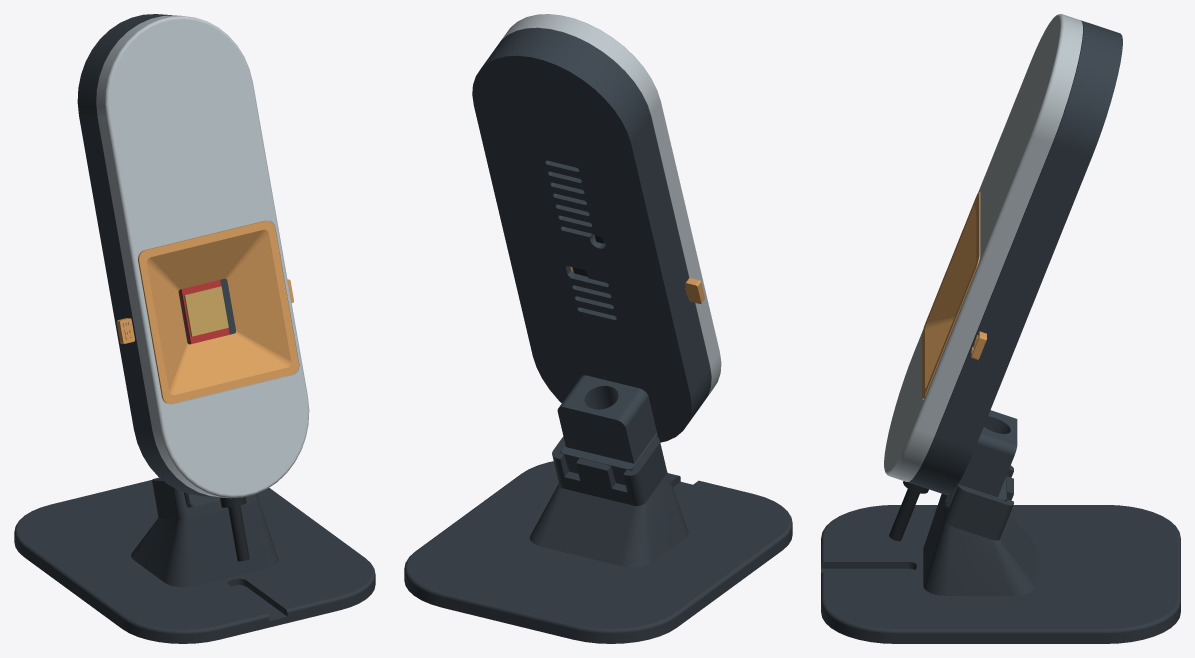
The model's file is assembly_on_existing_stand.glb.
3 renders of one model, left to right at view 1: azimuth 30°, elevation 25°; view 2: azimuth 150°, elevation 25°; view 3: azimuth 270°, elevation 25°, orthographic. The views are drawn at different scales.
Parts seen in each view (by area): view 1: hardware_free_pill_v2_2_fit_revision/v2_2_front_cable_and_cl, single_board_desktop_dock_20deg, hardware_free_pill_v2_2_fit_revision/v2_removable_flared_ape, hardware_free_pill_v2_2_fit_revision/v2_2_rear_10mm_cable_TP, hardware_free_pill_v2_2_fit_revision/reference_board_not_pri (×2), hardware_free_pill_v2_2_fit_revision/ref_assumed_9mm_molded_; view 2: hardware_free_pill_v2_2_fit_revision/v2_2_rear_10mm_cable_TP, single_board_desktop_dock_20deg, hardware_free_pill_v2_2_fit_revision/v2_2_fitted_heel_integr, hardware_free_pill_v2_2_fit_revision/v2_2_front_cable_and_cl; view 3: single_board_desktop_dock_20deg, hardware_free_pill_v2_2_fit_revision/v2_2_rear_10mm_cable_TP, hardware_free_pill_v2_2_fit_revision/v2_2_front_cable_and_cl, hardware_free_pill_v2_2_fit_revision/v2_removable_flared_ape, hardware_free_pill_v2_2_fit_revision/v2_2_fitted_heel_integr, hardware_free_pill_v2_2_fit_revision/ref_assumed_9mm_molded_.
Boxes of the visible parts, x1=… form: hardware_free_pill_v2_2_fit_revision/v2_2_front_cable_and_cl: x1=96, y1=15, x2=309, y2=498; single_board_desktop_dock_20deg: x1=14, y1=477, x2=375, y2=643; hardware_free_pill_v2_2_fit_revision/v2_removable_flared_ape: x1=138, y1=220, x2=298, y2=403; hardware_free_pill_v2_2_fit_revision/v2_2_rear_10mm_cable_TP: x1=77, y1=14, x2=235, y2=497; hardware_free_pill_v2_2_fit_revision/reference_board_not_pri (×2): x1=179, y1=280, x2=229, y2=344; hardware_free_pill_v2_2_fit_revision/ref_assumed_9mm_molded_: x1=220, y1=497, x2=249, y2=561; hardware_free_pill_v2_2_fit_revision/v2_2_rear_10mm_cable_TP: x1=472, y1=28, x2=711, y2=442; single_board_desktop_dock_20deg: x1=404, y1=436, x2=792, y2=643; hardware_free_pill_v2_2_fit_revision/v2_2_fitted_heel_integr: x1=557, y1=375, x2=658, y2=485; hardware_free_pill_v2_2_fit_revision/v2_2_front_cable_and_cl: x1=501, y1=14, x2=721, y2=399; single_board_desktop_dock_20deg: x1=821, y1=465, x2=1180, y2=643; hardware_free_pill_v2_2_fit_revision/v2_2_rear_10mm_cable_TP: x1=907, y1=20, x2=1122, y2=495; hardware_free_pill_v2_2_fit_revision/v2_2_front_cable_and_cl: x1=884, y1=14, x2=1082, y2=481; hardware_free_pill_v2_2_fit_revision/v2_removable_flared_ape: x1=922, y1=192, x2=980, y2=398; hardware_free_pill_v2_2_fit_revision/v2_2_fitted_heel_integr: x1=942, y1=410, x2=1017, y2=509; hardware_free_pill_v2_2_fit_revision/ref_assumed_9mm_molded_: x1=889, y1=481, x2=928, y2=541.
Bounding box in the file's own units: 0.1 × 0.2052 × 0.12.
